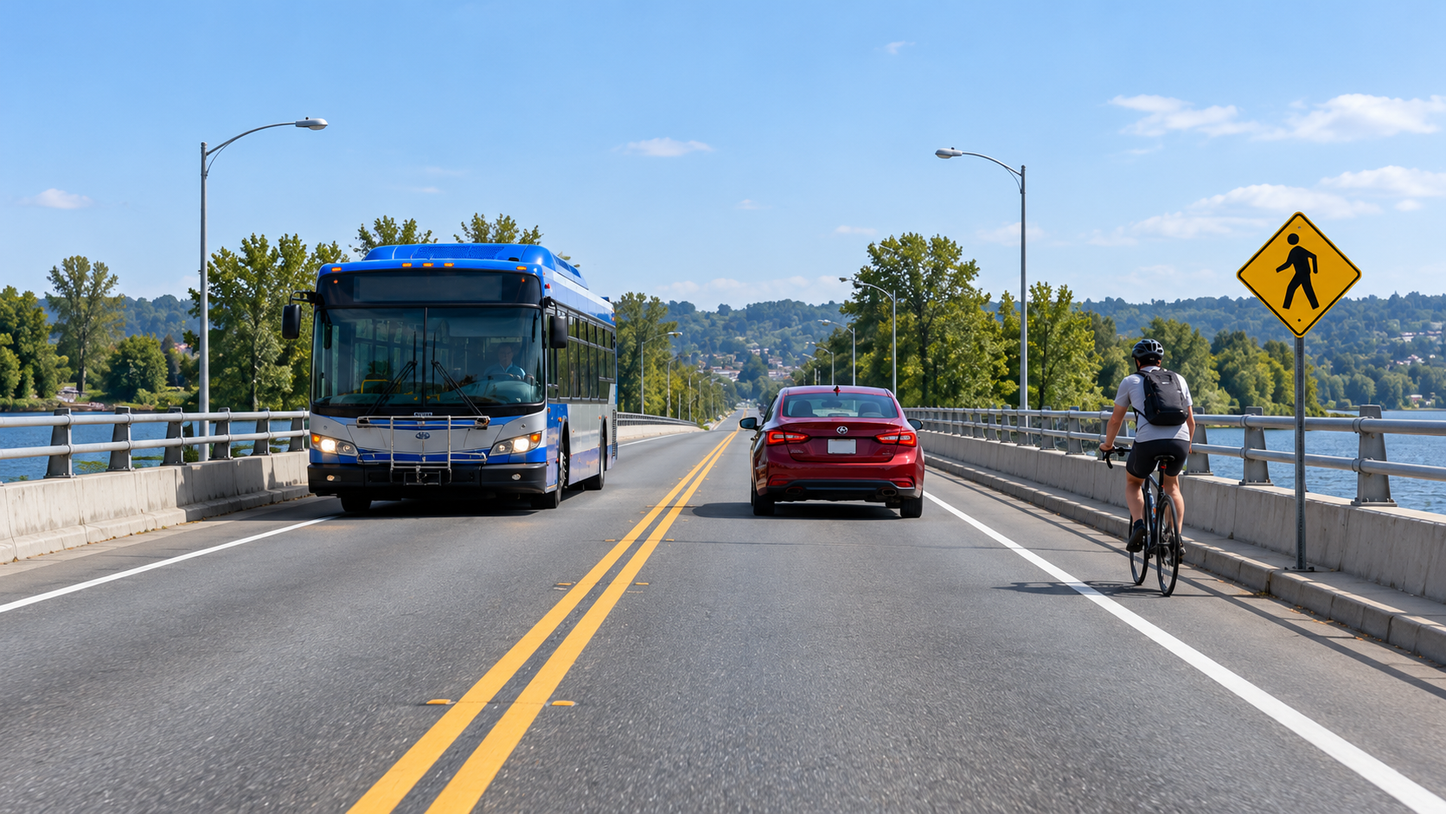bicycle: (1093, 413, 1202, 603)
bus: (278, 242, 619, 516)
car: (741, 383, 931, 522)
crossing_warning_sign: (1234, 209, 1369, 340)
person: (1094, 335, 1212, 553)
